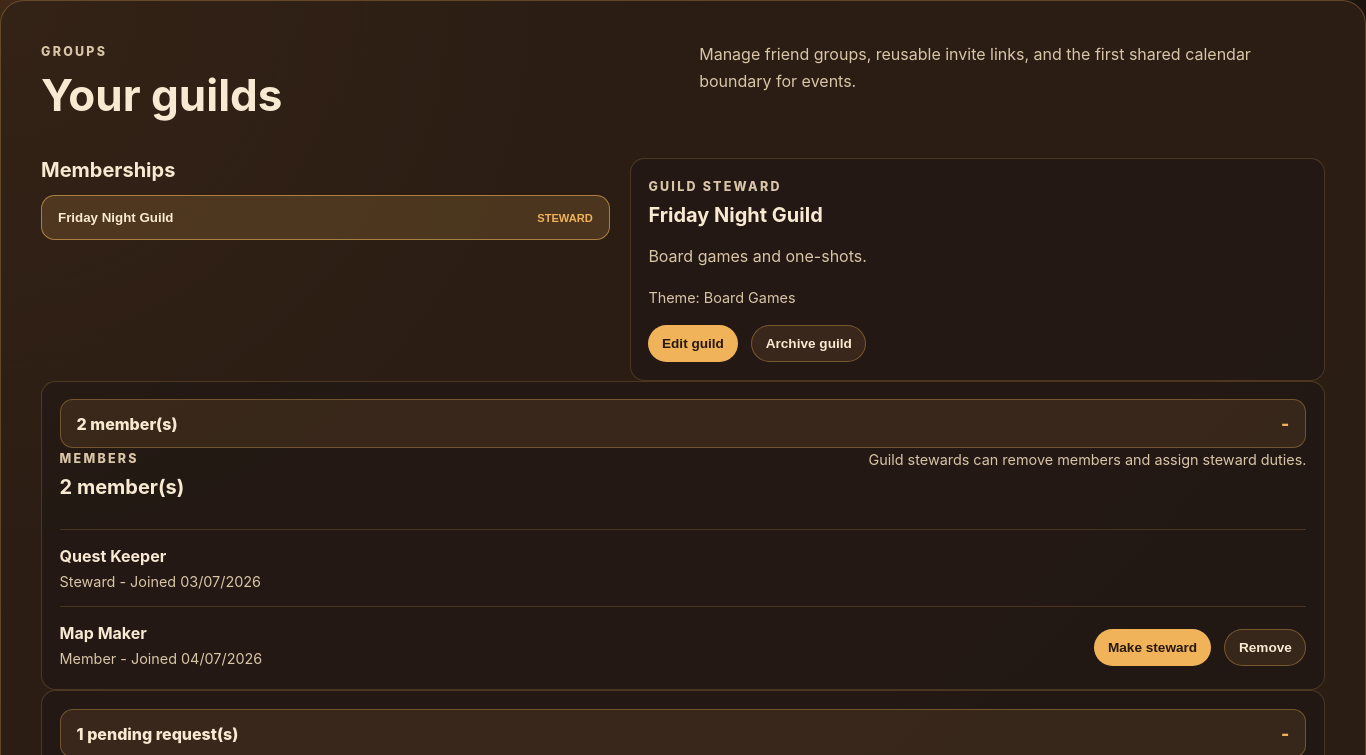
GroupsPage › shows guild members and lets admins remove other members
Expected: the text "Quest Keeper" is shown, top-left (60, 546), bottom-right (166, 566)
Expected: the text "Map Maker" is shown, top-left (60, 623), bottom-right (147, 643)
Click the button "Remove" at (1265, 648), box top-left (1224, 629), bottom-right (1306, 666)
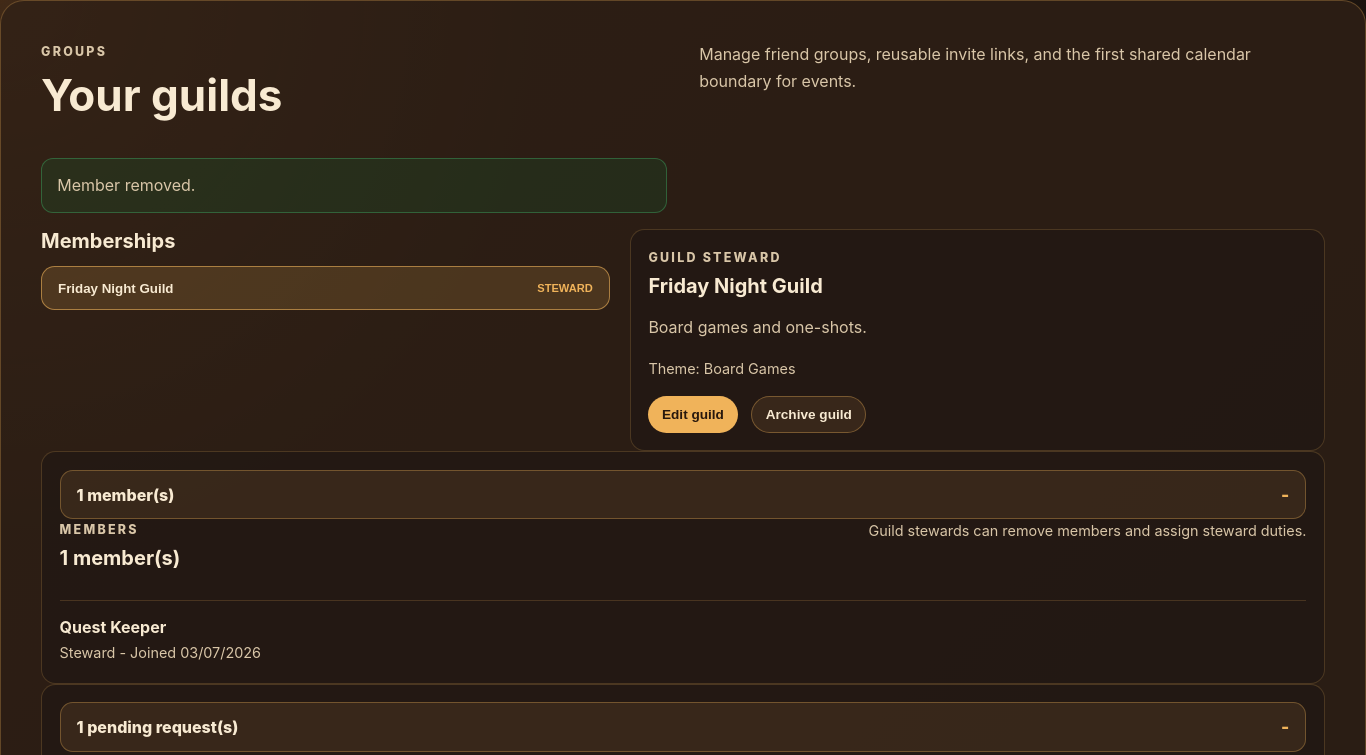
Expected: the text "Member removed." is shown, top-left (41, 158), bottom-right (667, 213)
Expected: the text "Map Maker" is gone
